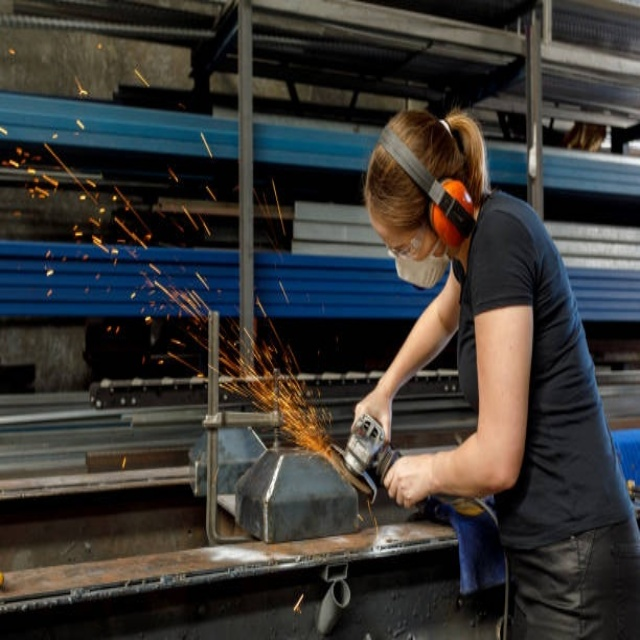Gafas: (386, 198, 432, 265)
Mascara: (391, 230, 451, 291)
Sin_guantes: (380, 450, 436, 509), (350, 390, 391, 451)
